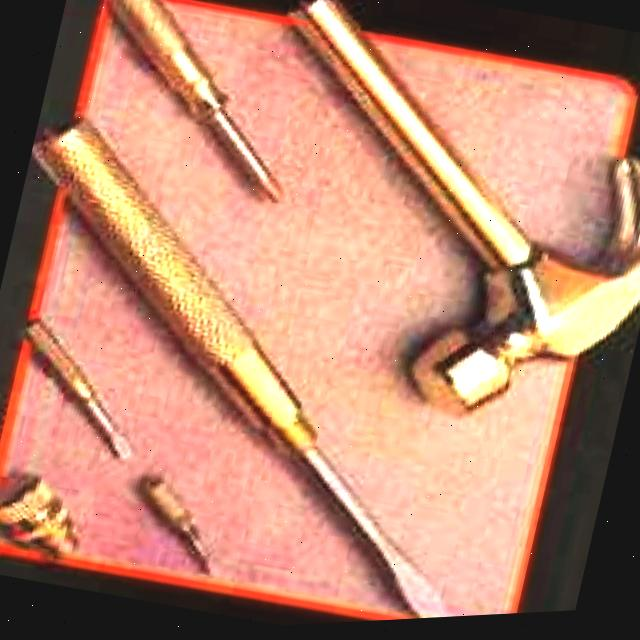hammer: (200, 0, 640, 473)
